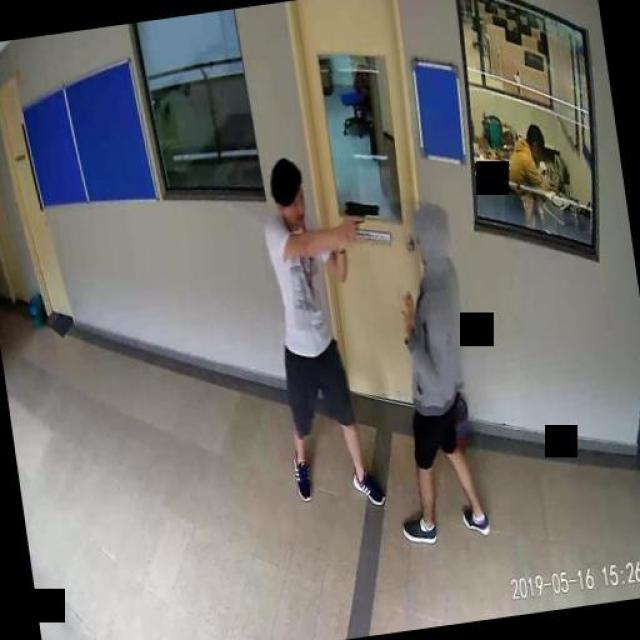gun: (341, 194, 381, 241)
